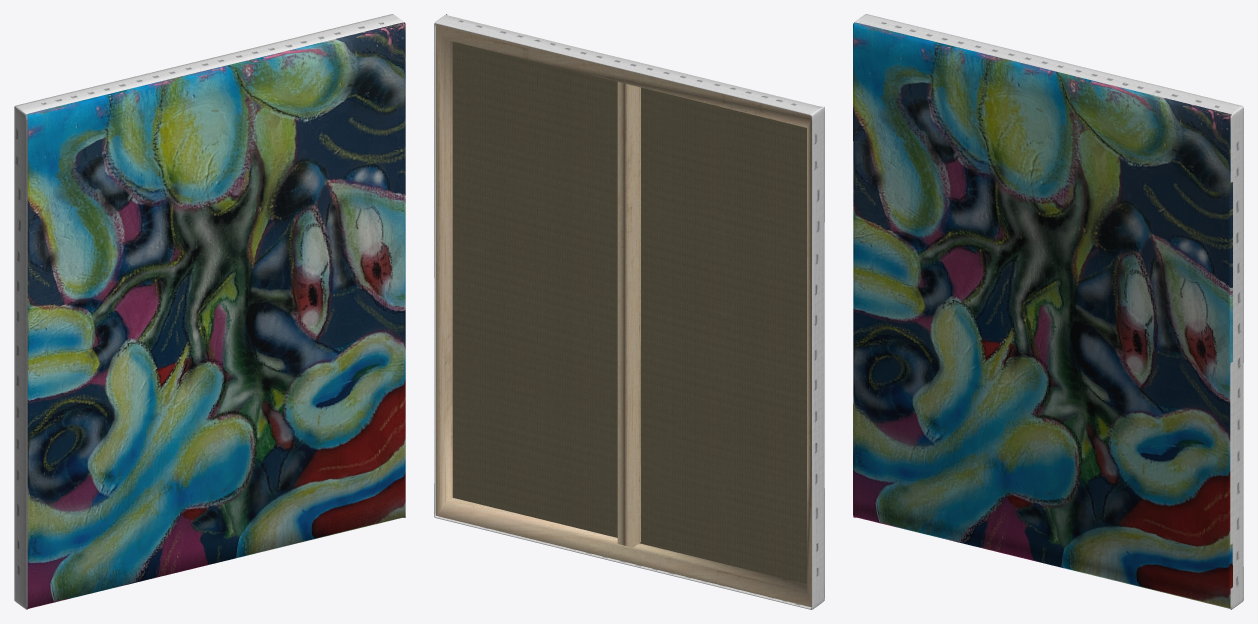
3 views of the same model, side by side, from view 1: azimuth 30°, elevation 25°; view 2: azimuth 150°, elevation 25°; view 3: azimuth 330°, elevation 25° (orthographic).
Visible parts, largest first — view 1: SMS_Canvas_0; view 2: SMS_Canvas_0; view 3: SMS_Canvas_0.
Part boxes in pixels (box(x1,y1,x2,y2)): SMS_Canvas_0: box(14, 14, 405, 609); SMS_Canvas_0: box(434, 14, 824, 609); SMS_Canvas_0: box(853, 14, 1243, 609).
Bounding box in the file's own units: 0.4064 × 0.508 × 0.0254.
Materials: 2 (2 with a texture image).
